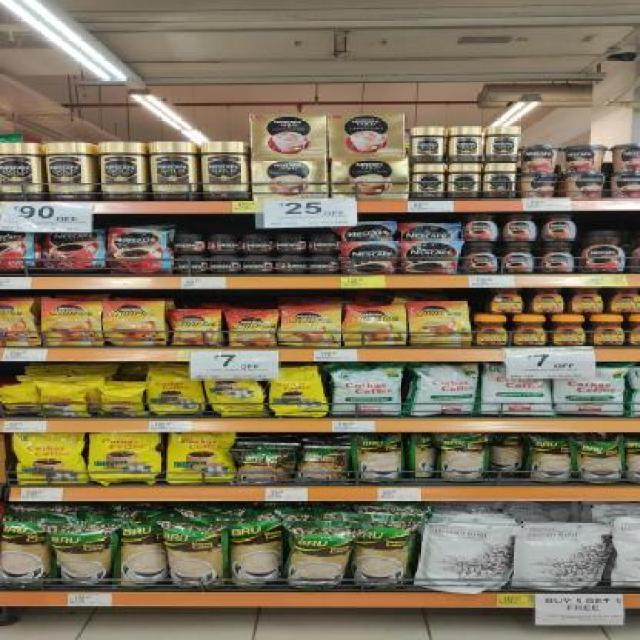Coffee: (42, 143, 98, 199), (102, 299, 166, 346), (147, 142, 198, 200), (42, 299, 103, 347), (109, 229, 171, 276), (198, 142, 248, 200), (98, 143, 147, 199), (408, 303, 470, 346), (0, 142, 43, 201), (279, 306, 339, 348), (345, 306, 406, 346), (44, 232, 102, 273), (400, 240, 457, 274), (580, 232, 626, 273), (344, 242, 399, 275), (171, 310, 221, 346), (0, 299, 38, 346), (228, 312, 278, 346), (0, 231, 34, 275), (539, 241, 576, 274), (500, 241, 538, 273), (461, 242, 499, 273), (412, 127, 445, 162), (487, 127, 519, 162), (448, 165, 480, 198), (486, 164, 517, 198), (589, 318, 628, 345), (452, 127, 482, 162), (414, 164, 444, 198), (514, 315, 548, 345), (463, 213, 499, 241), (501, 212, 537, 240), (541, 213, 577, 241), (552, 317, 588, 345), (474, 316, 506, 347), (530, 288, 565, 314), (569, 288, 603, 314), (491, 289, 524, 314), (606, 290, 640, 312), (274, 254, 309, 274), (306, 232, 339, 252), (207, 234, 240, 252), (240, 234, 272, 252), (177, 255, 206, 274), (210, 254, 239, 272), (176, 234, 204, 252), (278, 233, 304, 252), (243, 255, 272, 272), (311, 254, 338, 272)
